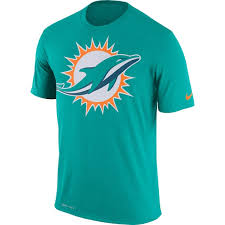T-Shirt: (29, 1, 197, 219)
